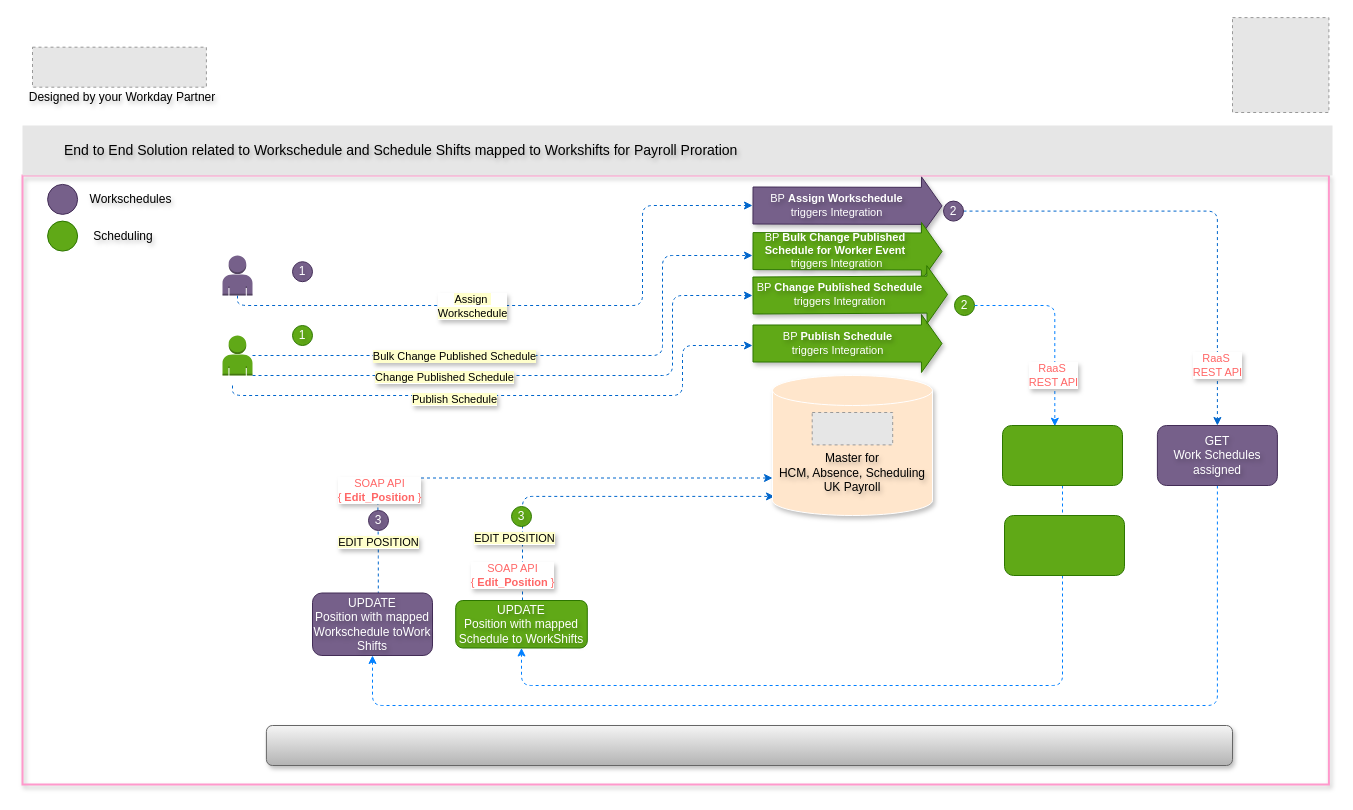
Some shapes in this 1353 by 810 pixel diagram are drawn without their labels. Grey dashed boxes stand in for pictures. The centre of each missing label's shape, as x and y in pixels:
"Absence Admin" goes at point (237, 275).
"GET Organization Schedules Published" goes at point (1062, 455).
"GET Workers and Positions of Scheduled Orgs" goes at point (1064, 545).
"Scheduling Admin" goes at point (237, 355).
"STEPS 2 & 3 are automated by Boomerang Integration" goes at point (749, 746).
